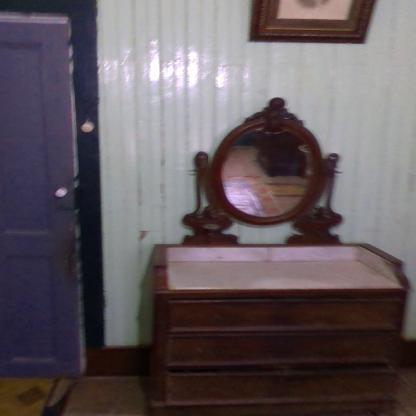door: (0, 21, 79, 380)
knob: (56, 187, 68, 199)
